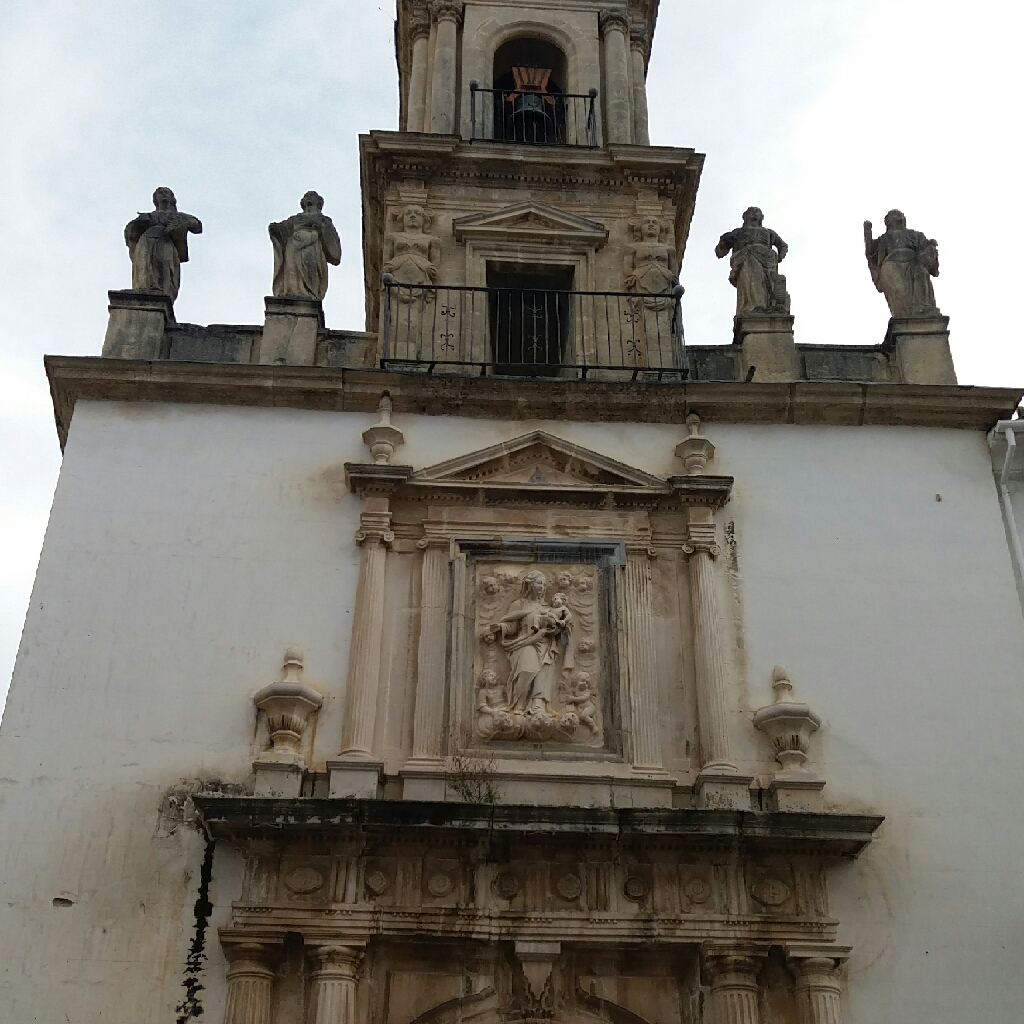arco-medio-punto: (475, 18, 578, 78)
fronton: (390, 423, 675, 504), (451, 195, 603, 248)
vano-adintelado: (472, 248, 590, 374)
